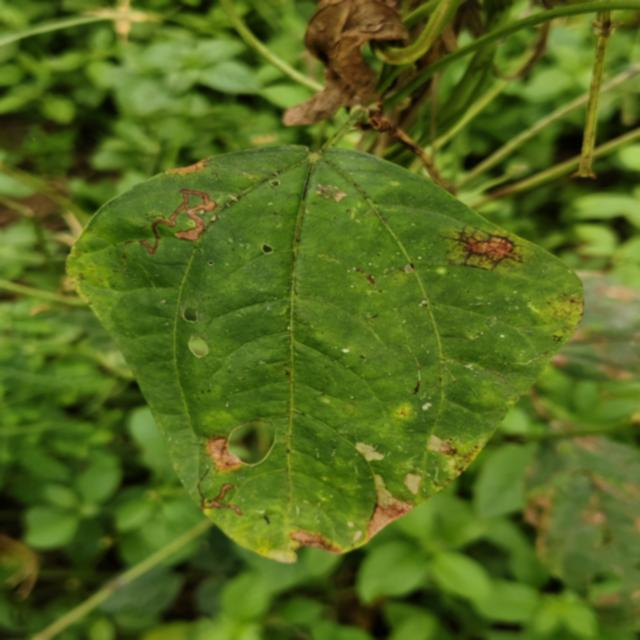leaf-healthy: (67, 145, 584, 563)
